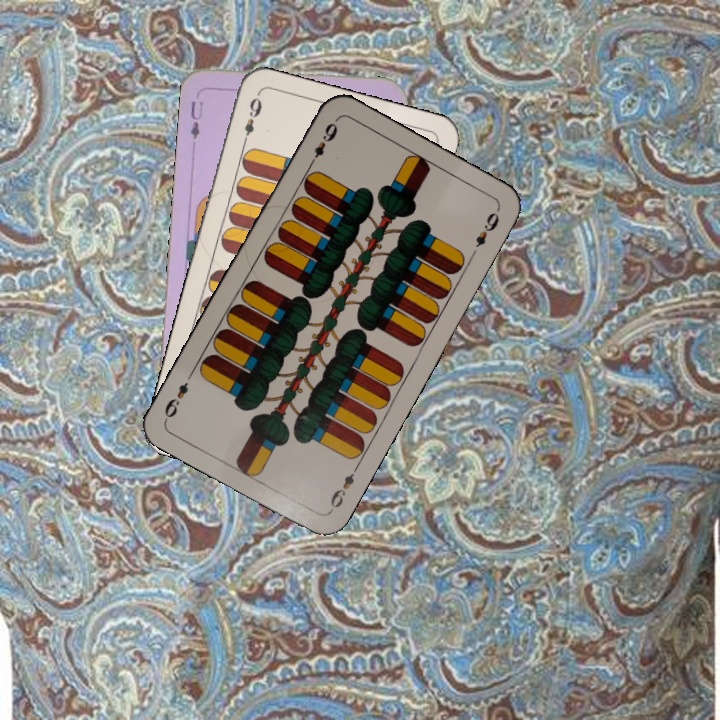E9: (325, 461, 362, 515), (304, 119, 340, 170), (238, 91, 265, 149)
EU: (186, 97, 206, 142)
